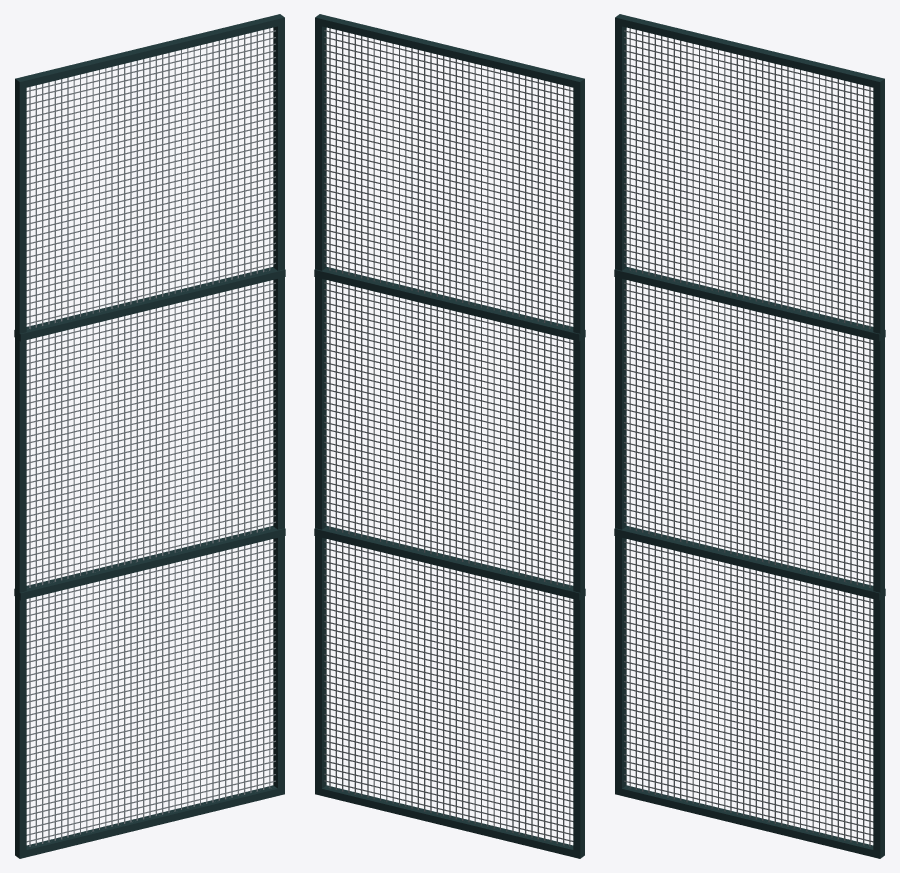
Rendered from aviary_mesh_panel.fbx.
3 views of the same model, side by side, from view 1: azimuth 30°, elevation 25°; view 2: azimuth 150°, elevation 25°; view 3: azimuth 330°, elevation 25° (orthographic).
Visible parts, largest first — view 1: aviary_mesh_panel; view 2: aviary_mesh_panel; view 3: aviary_mesh_panel.
Part boxes in pixels (box(x1,y1,x2,y2)): aviary_mesh_panel: box(14, 14, 285, 858); aviary_mesh_panel: box(314, 14, 585, 858); aviary_mesh_panel: box(614, 14, 885, 858).
Size of the model in its own units: 2.5 by 7 by 0.1.
